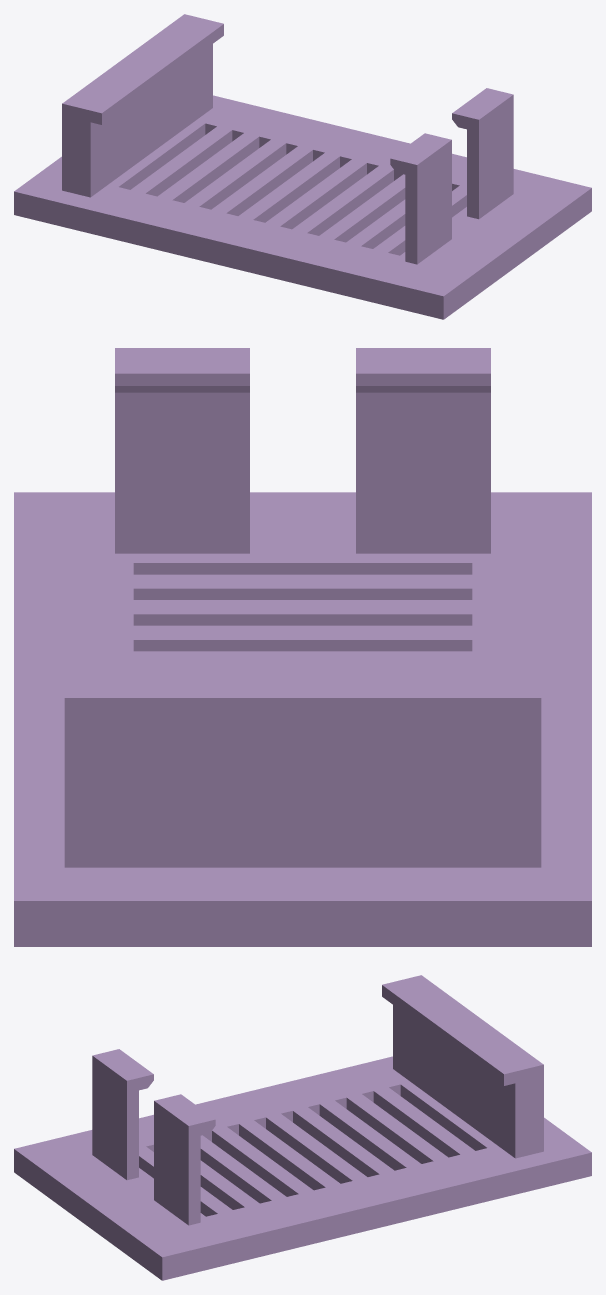
File: Freenove_Speaker_Coupon.glb
3 renders of one model, top to bottom at view 1: azimuth 30°, elevation 25°; view 2: azimuth 150°, elevation 25°; view 3: azimuth 270°, elevation 25°, orthographic. The views are drawn at different scales.
Parts seen in each view (by area): view 1: Freenove_Speaker_Coupon; view 2: Freenove_Speaker_Coupon; view 3: Freenove_Speaker_Coupon.
Boxes of the visible parts, x1,y1,x2,y2 form: Freenove_Speaker_Coupon: (14, 14, 591, 319); Freenove_Speaker_Coupon: (14, 348, 591, 946); Freenove_Speaker_Coupon: (14, 975, 591, 1280).
Size of the model in its own units: 58.4 by 15.7 by 66.86.
